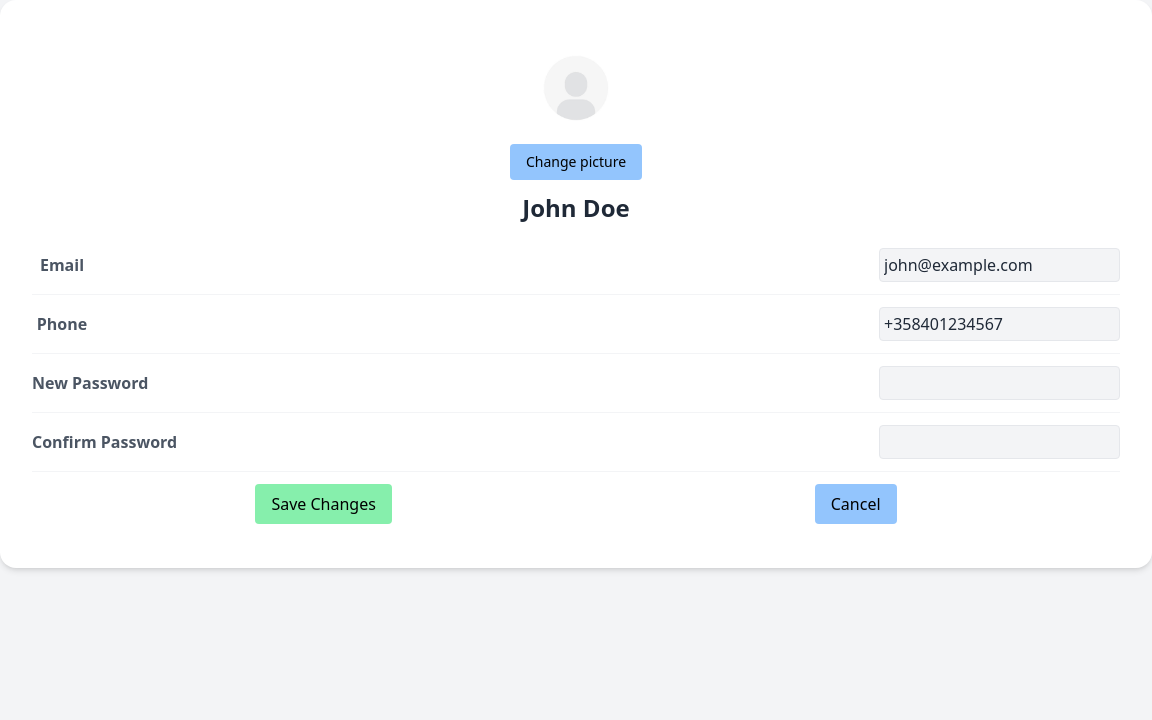
Test: EditPage validation › shows error for invalid email format
The width and height of the screenshot is (1152, 720).
Replace the text in the field labelled "Email" with "not-an-email" at (1000, 265), box [879,248,1120,282]
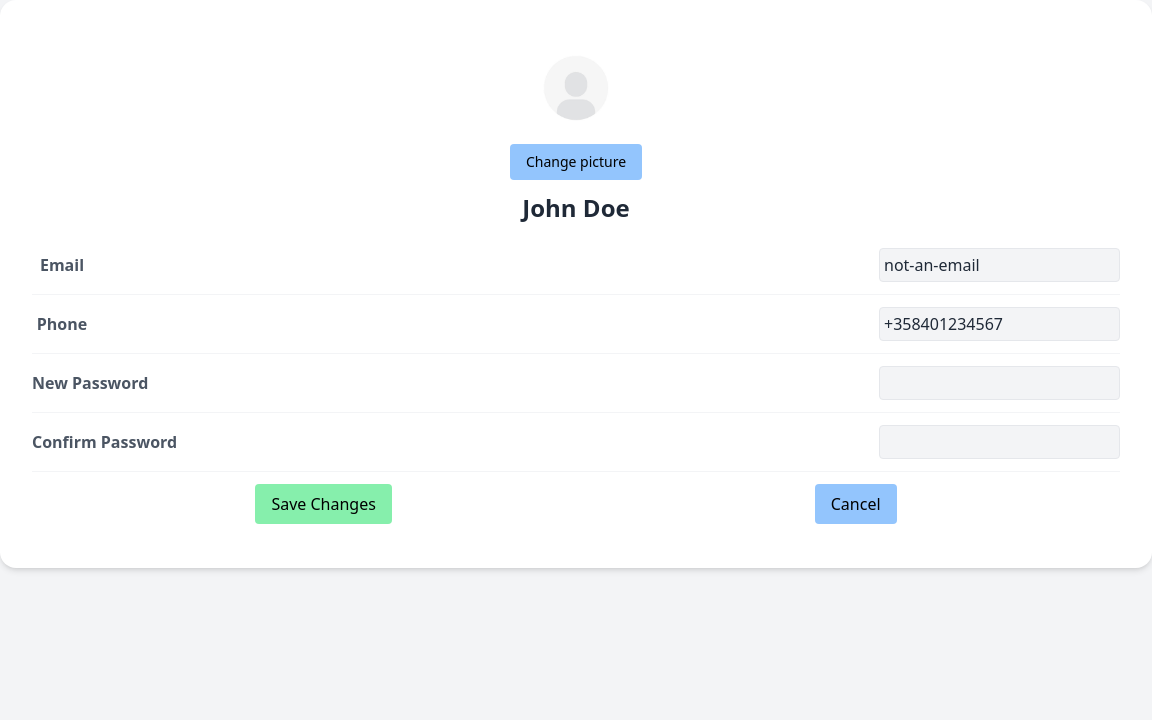
Click the button showing "Save Changes" at (324, 504), box [255,484,392,524]
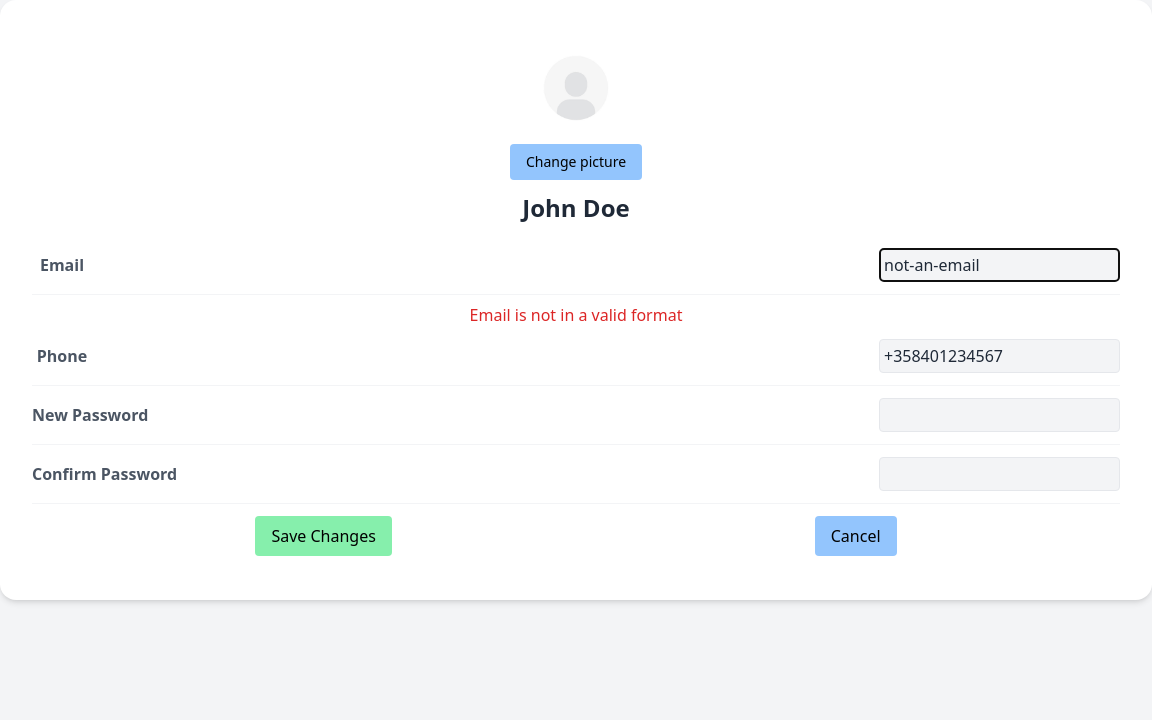
Now the text "Email is not in a valid format" is shown, box [470,304,682,326]
